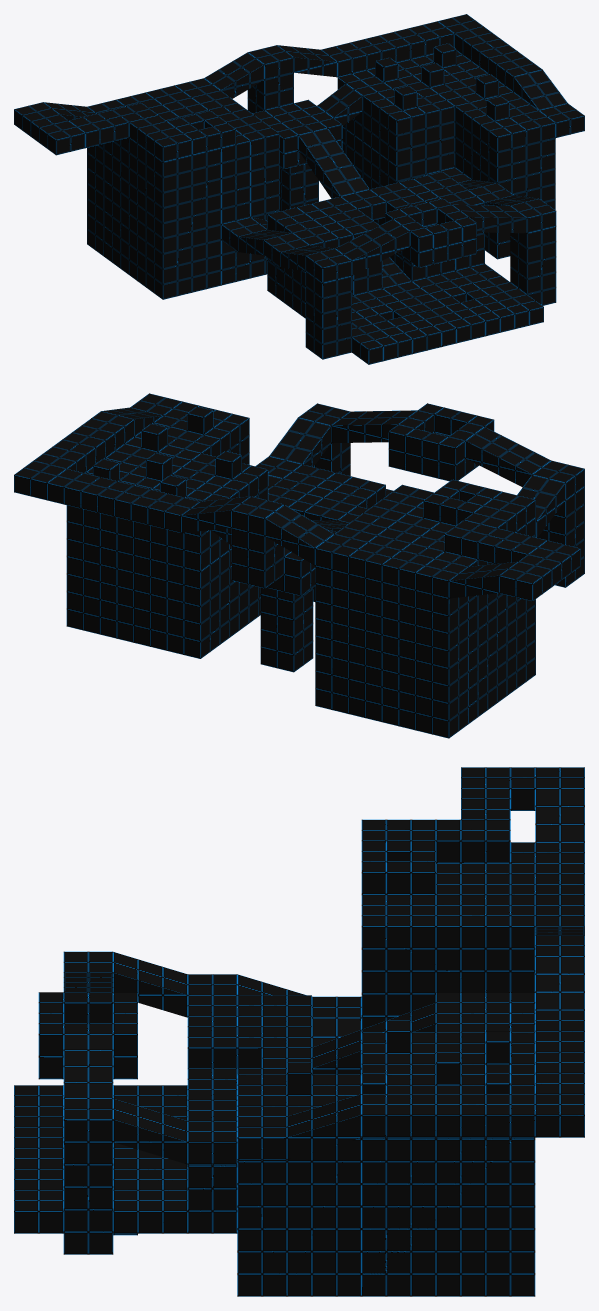
Rendered from painchallenge.dae.
3 renders of one model, top to bottom at view 1: azimuth 30°, elevation 25°; view 2: azimuth 150°, elevation 25°; view 3: azimuth 270°, elevation 25°, orthographic. The views are drawn at different scales.
Visible parts, largest first — view 1: painchallenge; view 2: painchallenge; view 3: painchallenge.
Boxes of the visible parts, x1,y1,x2,y2 form: painchallenge: (14,14,584,364); painchallenge: (14,393,584,738); painchallenge: (14,767,584,1296).
Size of the model in its own units: 62 by 46 by 22.
Materials: 1 (1 with a texture image).
